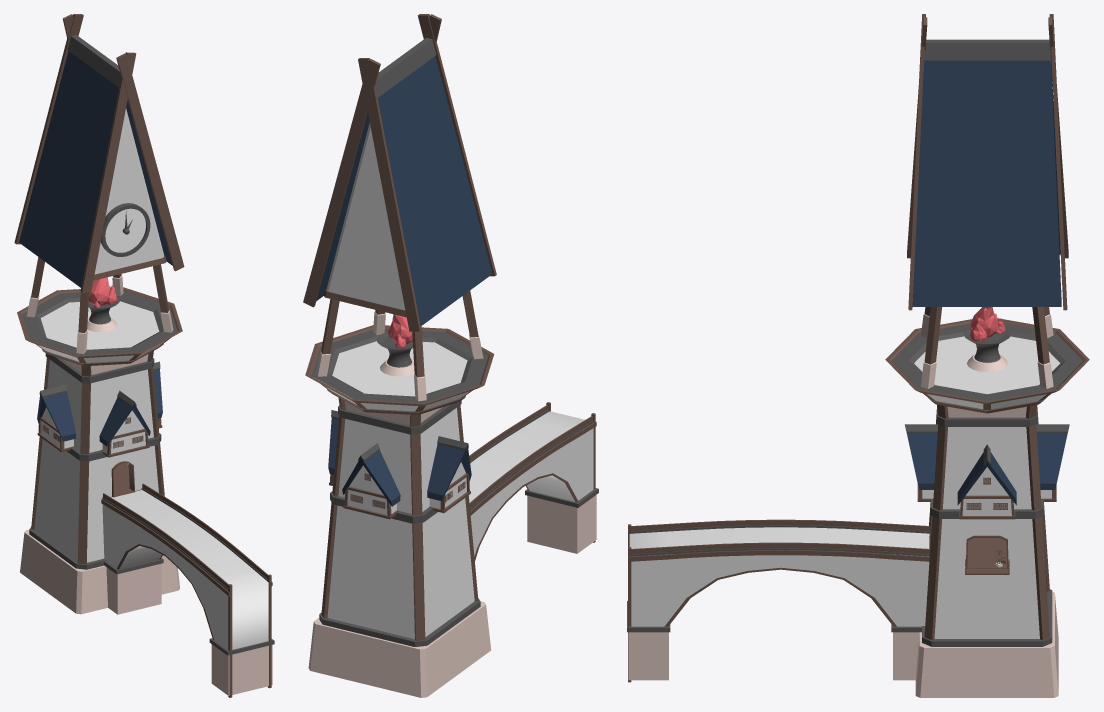
File: Dungeon_Tower.fbx
The picture shows the model from 3 angles, left to right: view 1: azimuth 30°, elevation 25°; view 2: azimuth 150°, elevation 25°; view 3: azimuth 270°, elevation 25°; orthographic projection. The views are drawn at different scales.
Parts seen in each view (by area): view 1: Cube.040, Cube.002, Cube, Circle, Cube.010, Cube.001, Cube.006, Cube.005, Cylinder, Circle.001, Plane.005, Cube.042 (+14 smaller); view 2: Cube, Cube.002, Circle, Cube.040, Cube.010, Cube.001, Cube.008, Cube.007, Circle.001, Plane.005, Circle.003, Cube.005 (+13 smaller); view 3: Cube.002, Cube.040, Cube, Circle, Cube.010, Cube.001, Cube.042, Cube.025, Plane.004, Circle.001, Circle.003, Cube.043 (+10 smaller).
Boxes of the visible parts, x1=… form: Cube.040: x1=102, y1=488, x2=274, y2=695; Cube.002: x1=19, y1=51, x2=172, y2=287; Cube: x1=34, y1=354, x2=158, y2=562; Circle: x1=22, y1=108, x2=177, y2=362; Cube.010: x1=20, y1=529, x2=179, y2=614; Cube.001: x1=31, y1=357, x2=164, y2=564; Cube.006: x1=116, y1=53, x2=184, y2=271; Cube.005: x1=80, y1=52, x2=136, y2=292; Cylinder: x1=100, y1=203, x2=150, y2=256; Circle.001: x1=26, y1=257, x2=173, y2=353; Plane.005: x1=37, y1=369, x2=162, y2=441; Cube.042: x1=103, y1=483, x2=267, y2=588; Cube: x1=327, y1=401, x2=474, y2=639; Cube.002: x1=316, y1=56, x2=492, y2=325; Circle: x1=311, y1=122, x2=488, y2=411; Cube.040: x1=469, y1=409, x2=598, y2=556; Cube.010: x1=308, y1=601, x2=491, y2=697; Cube.001: x1=321, y1=405, x2=478, y2=640; Cube.008: x1=303, y1=59, x2=380, y2=307; Cube.007: x1=358, y1=58, x2=421, y2=331; Circle.001: x1=316, y1=290, x2=483, y2=401; Plane.005: x1=328, y1=418, x2=471, y2=501; Circle.003: x1=305, y1=325, x2=494, y2=406; Cube.005: x1=417, y1=14, x2=496, y2=276; Cube.002: x1=912, y1=57, x2=1061, y2=306; Cube.040: x1=627, y1=525, x2=929, y2=680; Cube: x1=934, y1=406, x2=1039, y2=638; Circle: x1=892, y1=323, x2=1082, y2=409; Cube.010: x1=915, y1=592, x2=1058, y2=697; Cube.001: x1=924, y1=405, x2=1049, y2=640; Cube.042: x1=631, y1=519, x2=930, y2=554; Cube.025: x1=924, y1=39, x2=1050, y2=60; Plane.004: x1=907, y1=433, x2=1067, y2=489; Circle.001: x1=921, y1=307, x2=1053, y2=388; Circle.003: x1=885, y1=318, x2=1089, y2=404; Cube.043: x1=628, y1=550, x2=929, y2=561.
Size of the model in its own units: 2693 by 9482 by 6087.
